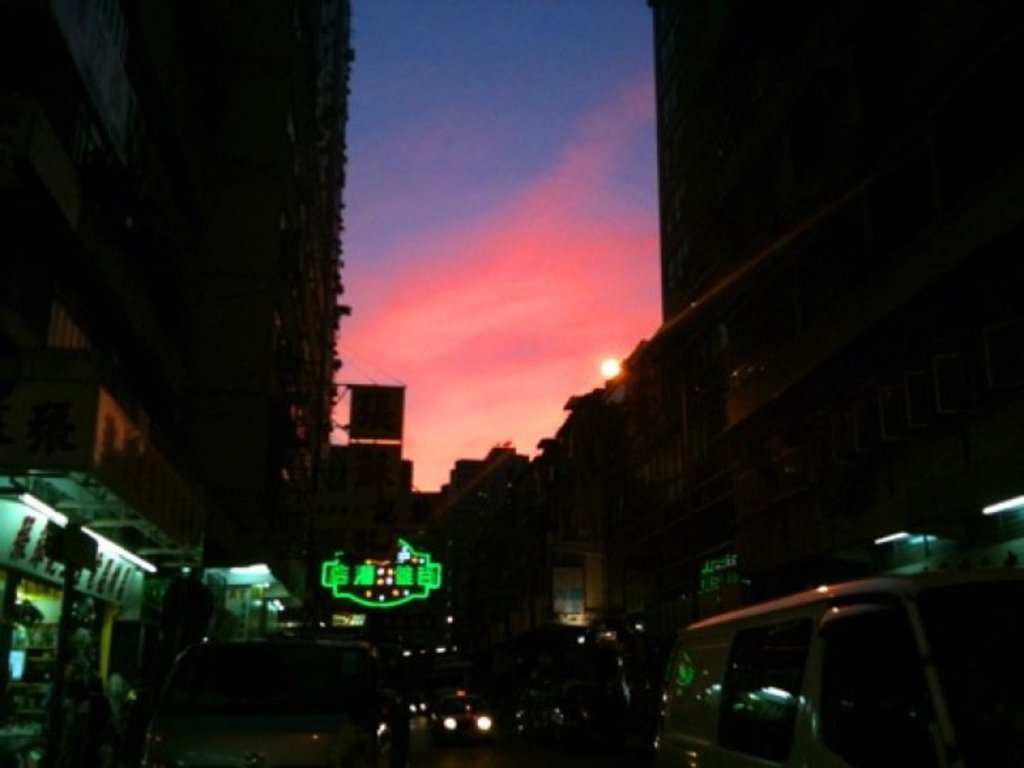Car: (140, 570, 1022, 766)
